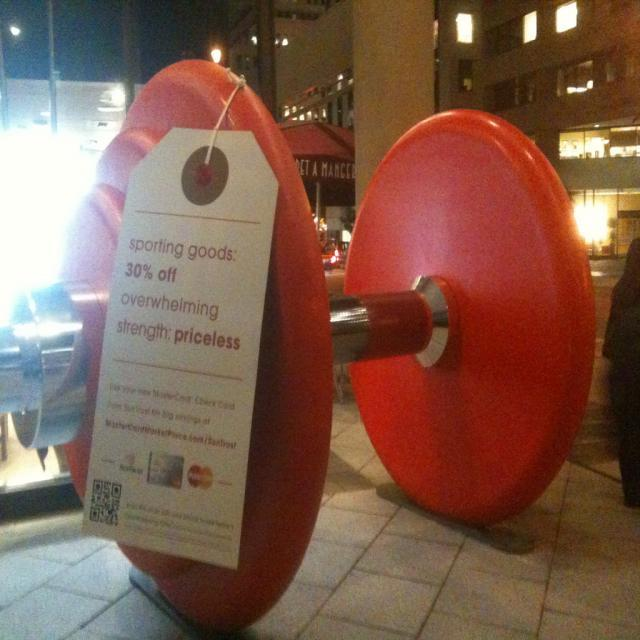qrcode: (90, 479, 122, 527)
